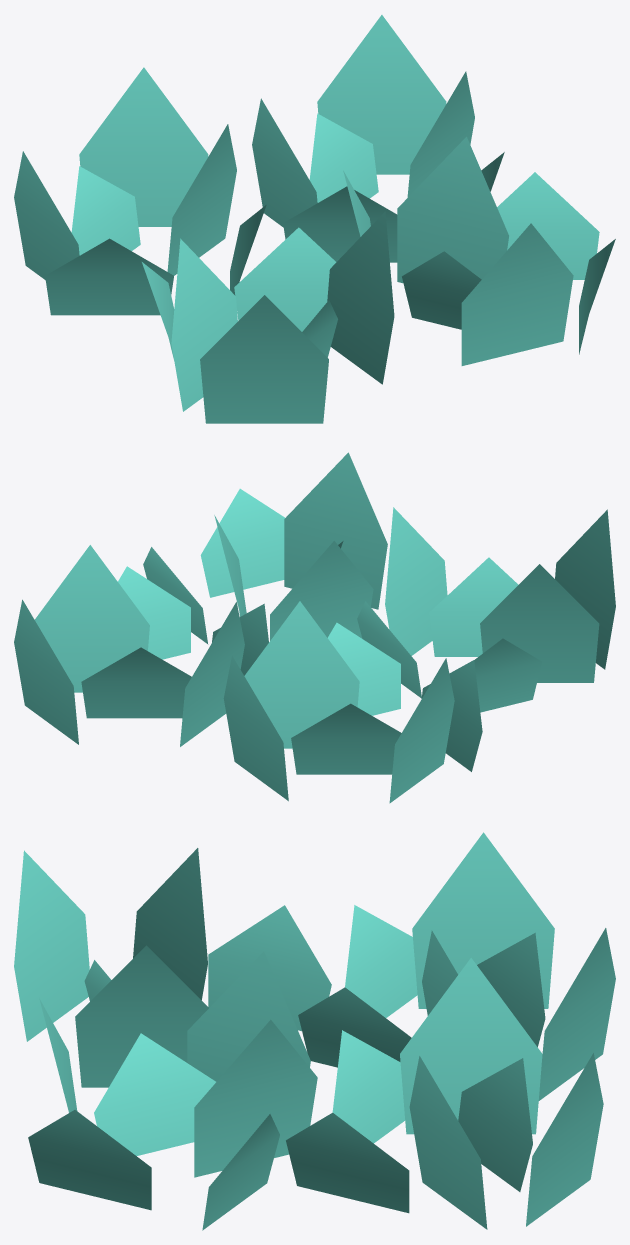
File: grass_leafsLarge.glb
3 views of the same model, one above another, from view 1: azimuth 30°, elevation 25°; view 2: azimuth 150°, elevation 25°; view 3: azimuth 270°, elevation 25° (orthographic). The views are drawn at different scales.
Visible parts, largest first — view 1: grass_leafsLarge; view 2: grass_leafsLarge; view 3: grass_leafsLarge.
Boxes of the visible parts, x1,y1,x2,y2 form: grass_leafsLarge: (14, 15, 615, 423); grass_leafsLarge: (14, 452, 615, 803); grass_leafsLarge: (14, 832, 615, 1230).
Bounding box in the file's own units: 0.4759 × 0.1425 × 0.4873.
